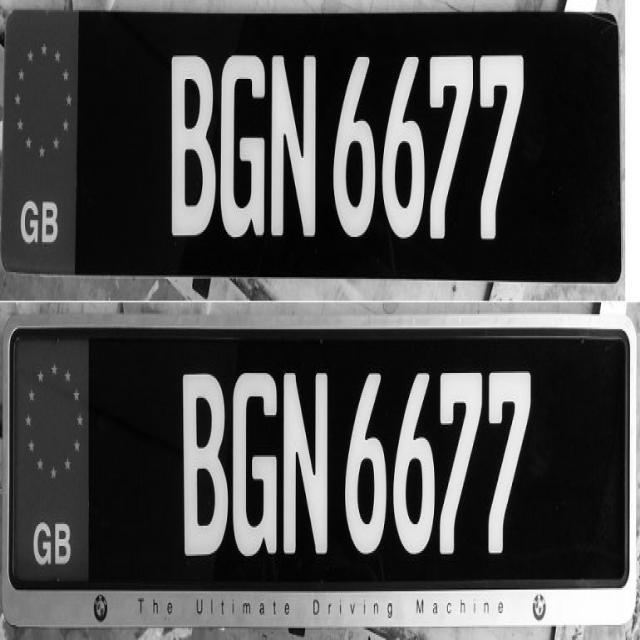car-plate: (8, 325, 632, 594), (8, 8, 623, 280)
